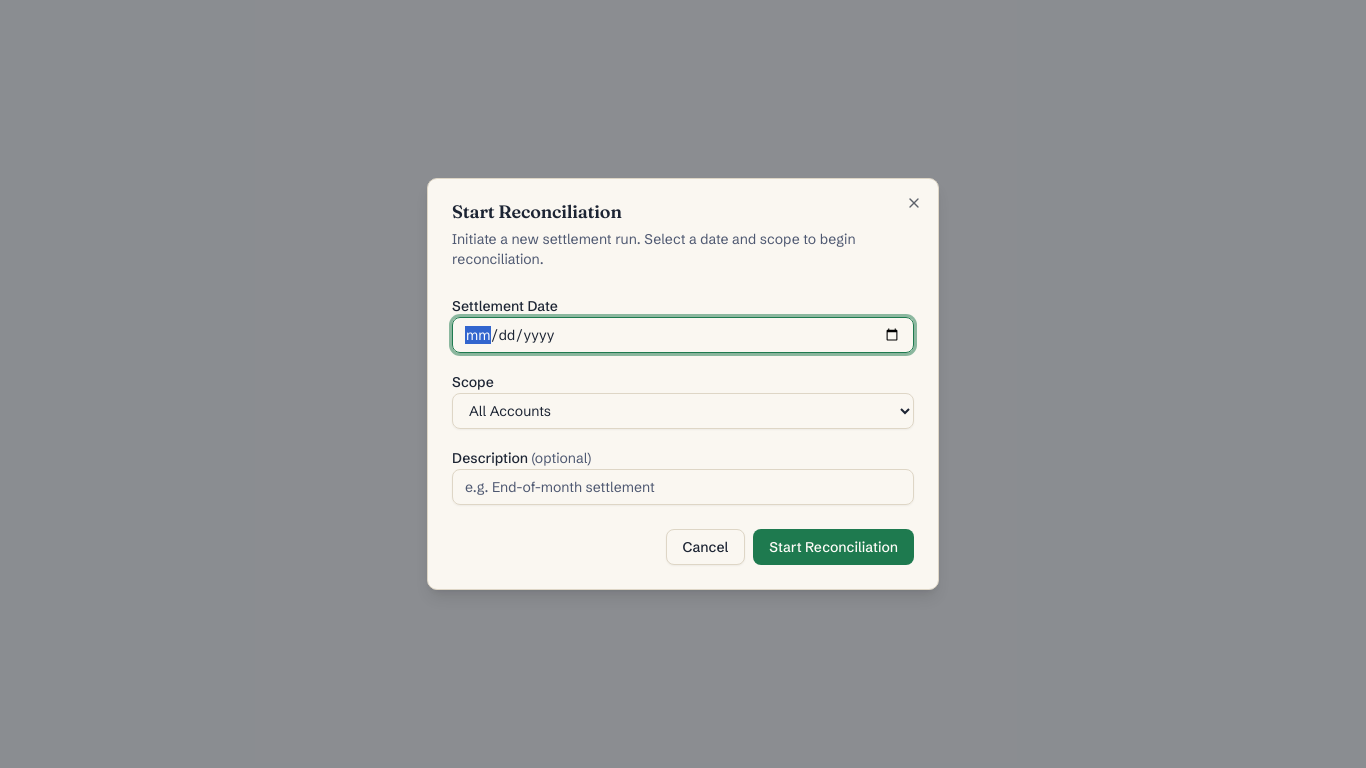
Test case: InitiateReconciliationDialog › settlement date validation › shows error when settlement date is not provided
This screenshot has width=1366, height=768.
Click the button "Start Reconciliation".
click(834, 547)  # box [753, 529, 914, 565]
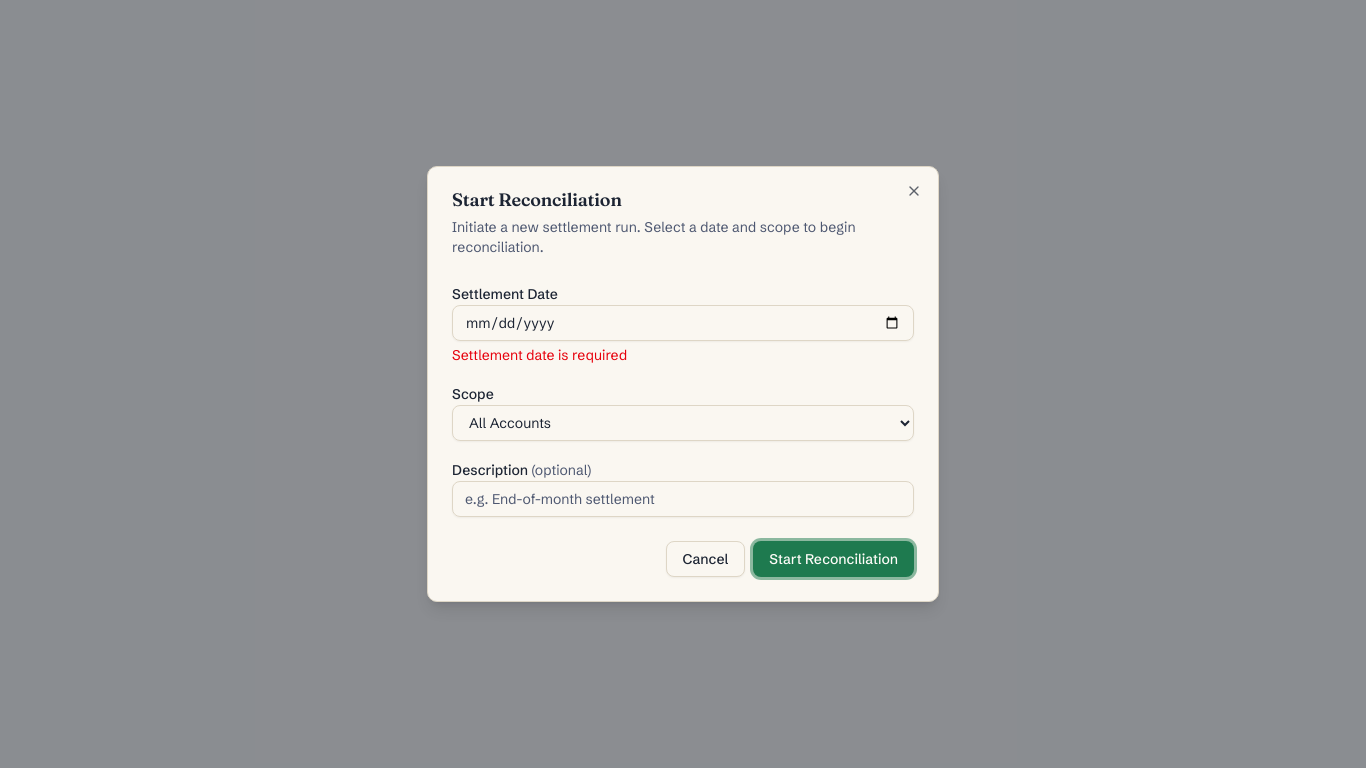
Now the text "Settlement date is required" is shown, box [452, 346, 627, 364]
